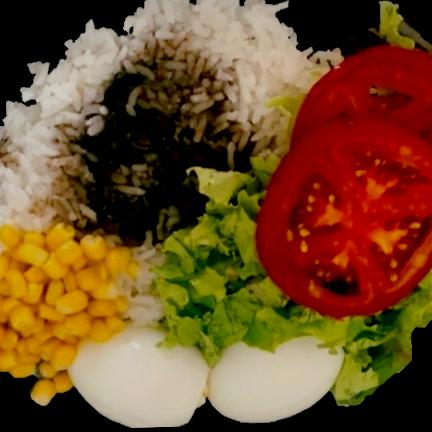beans: (41, 44, 256, 248)
corn: (0, 224, 135, 406)
egg: (68, 330, 347, 428)
rice: (0, 0, 340, 327)
salad: (157, 99, 432, 406)
tomato: (253, 43, 432, 317)
